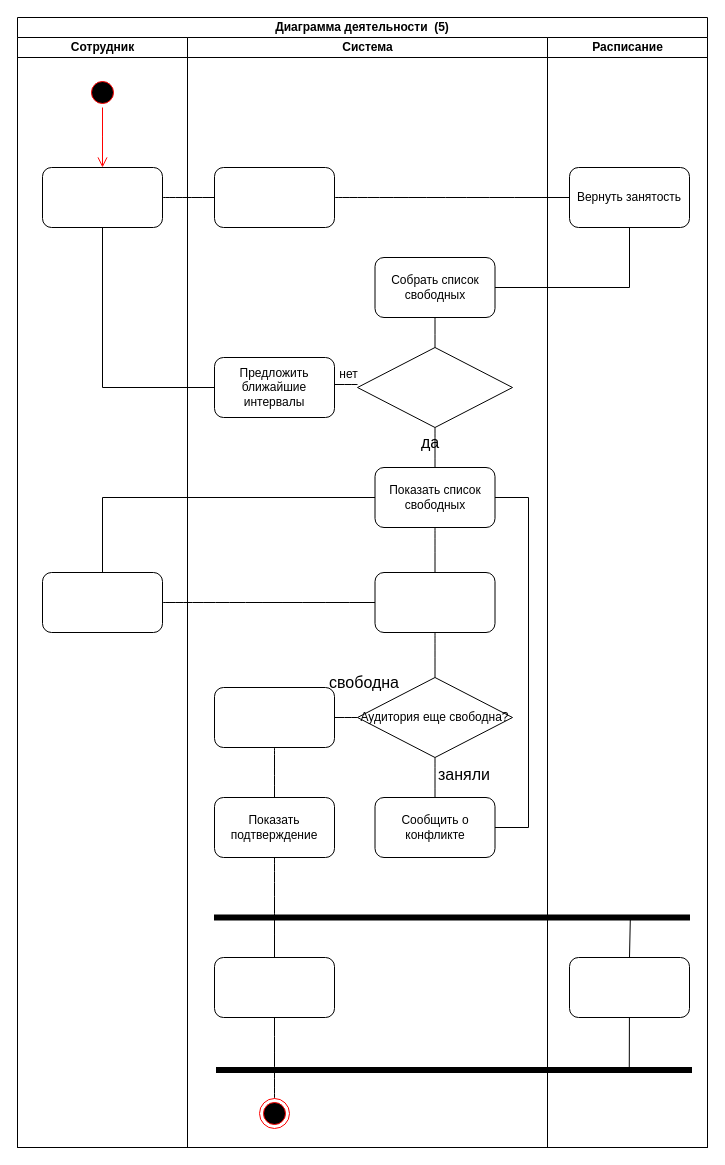
Image size: 725x1165. Some labels were removed from this diagram. Here are the shapes that lost their labels. From the top down, the centre of each, then its label:
At (102,197): "Выбрать дату и интервал".
At (274,197): "Запросить занятость".
At (434,387): "Есть свободные?".
At (102,602): "Выбрать аудиторию, указать цель".
At (434,602): "Создать бронь".
At (274,717): "Сохранить бронь".
